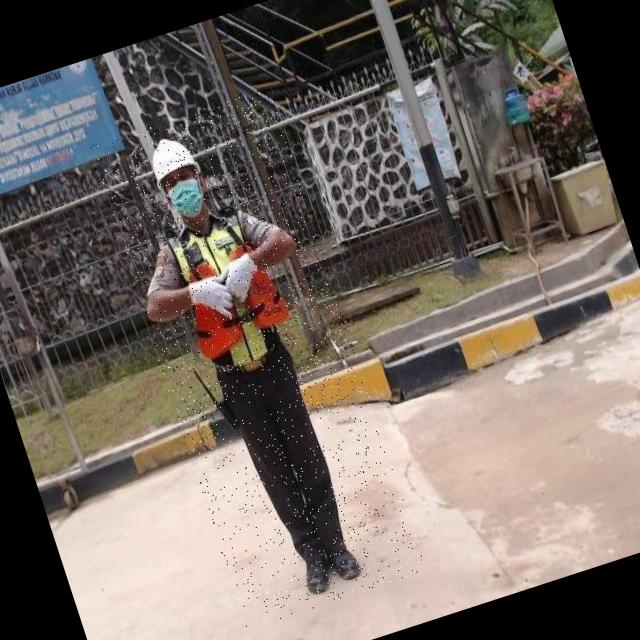hard_hat: (142, 129, 204, 190)
safety_vest: (165, 201, 304, 382)
vehicle: (89, 87, 428, 630)
work_boots: (296, 543, 338, 599), (325, 538, 367, 586)
